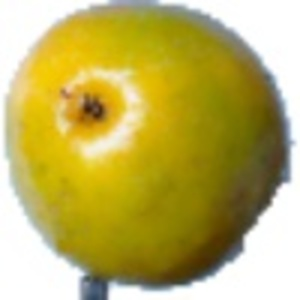maracujá: (2, 1, 298, 300)
